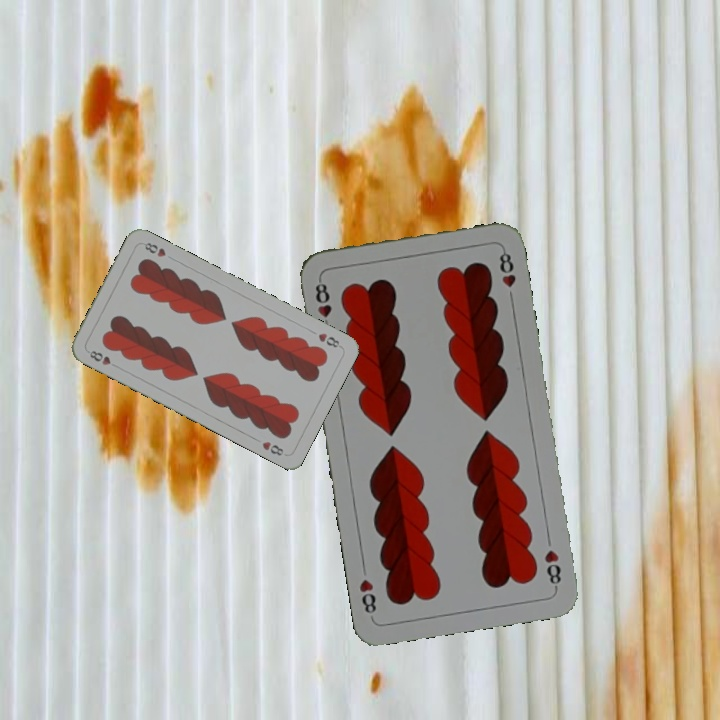H8: (311, 275, 334, 334), (540, 545, 564, 591), (85, 346, 121, 371), (314, 329, 344, 350)
